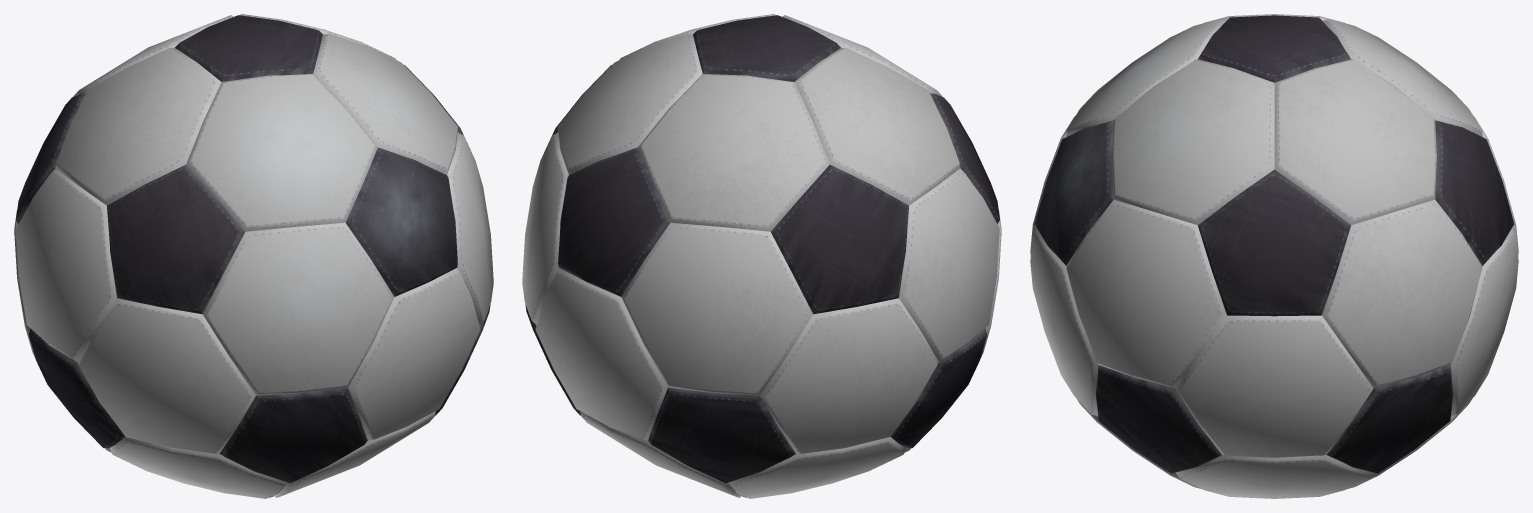
Rendered from Soccer Ball.fbx.
The picture shows the model from 3 angles, left to right: view 1: azimuth 30°, elevation 25°; view 2: azimuth 150°, elevation 25°; view 3: azimuth 270°, elevation 25°; orthographic projection.
Visible parts, largest first — view 1: Icosphere; view 2: Icosphere; view 3: Icosphere.
Boxes of the visible parts, bbox=[...] form: Icosphere: bbox=[14, 14, 493, 498]; Icosphere: bbox=[522, 14, 1001, 498]; Icosphere: bbox=[1030, 14, 1518, 498].
Size of the model in its own units: 43.4 by 43.31 by 43.88.
